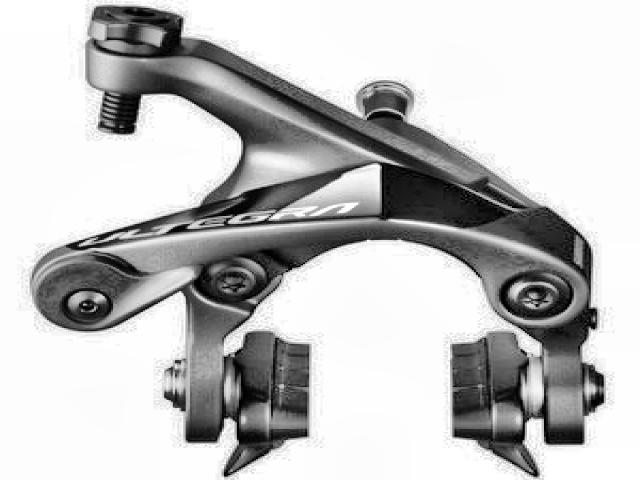rim_brake: (28, 3, 603, 476)
